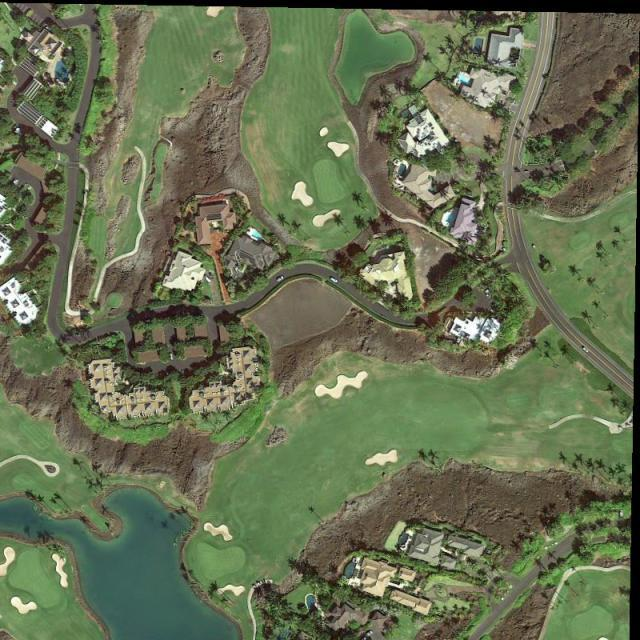vehicle: (203, 275, 213, 284), (276, 275, 286, 283), (365, 630, 374, 638), (10, 178, 19, 186), (582, 346, 590, 354), (13, 126, 21, 134), (208, 271, 215, 280), (330, 277, 339, 283), (619, 510, 625, 518)
